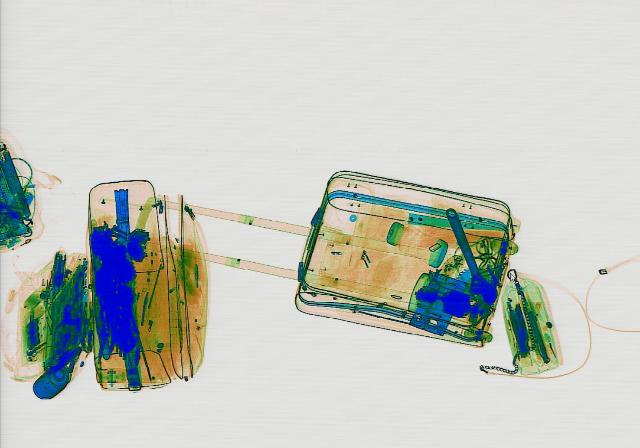Wrench: (434, 205, 501, 305)
